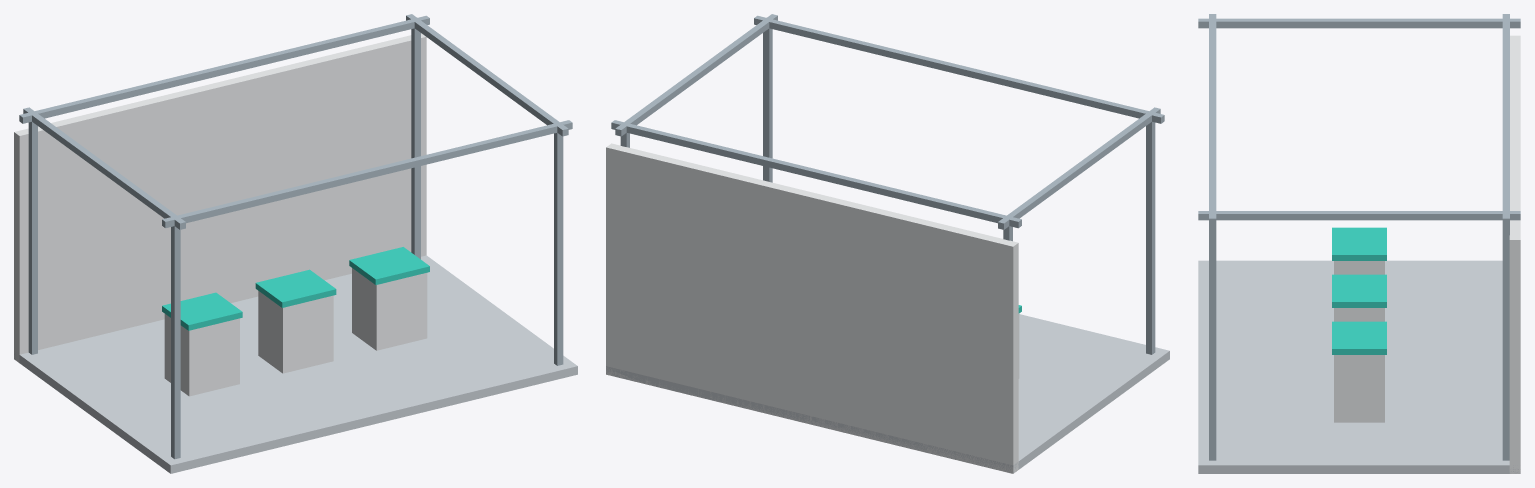
3 views of the same model, side by side, from view 1: azimuth 30°, elevation 25°; view 2: azimuth 150°, elevation 25°; view 3: azimuth 270°, elevation 25° (orthographic). The views are drawn at different scales.
Visible parts, largest first — view 1: Exhibition Booth Concept; view 2: Exhibition Booth Concept; view 3: Exhibition Booth Concept.
Boxes of the visible parts, x1,y1,x2,y2 form: Exhibition Booth Concept: [14, 14, 577, 473]; Exhibition Booth Concept: [606, 14, 1169, 473]; Exhibition Booth Concept: [1198, 14, 1520, 473].
Bounding box in the file's own units: 6 × 3.49 × 4.
